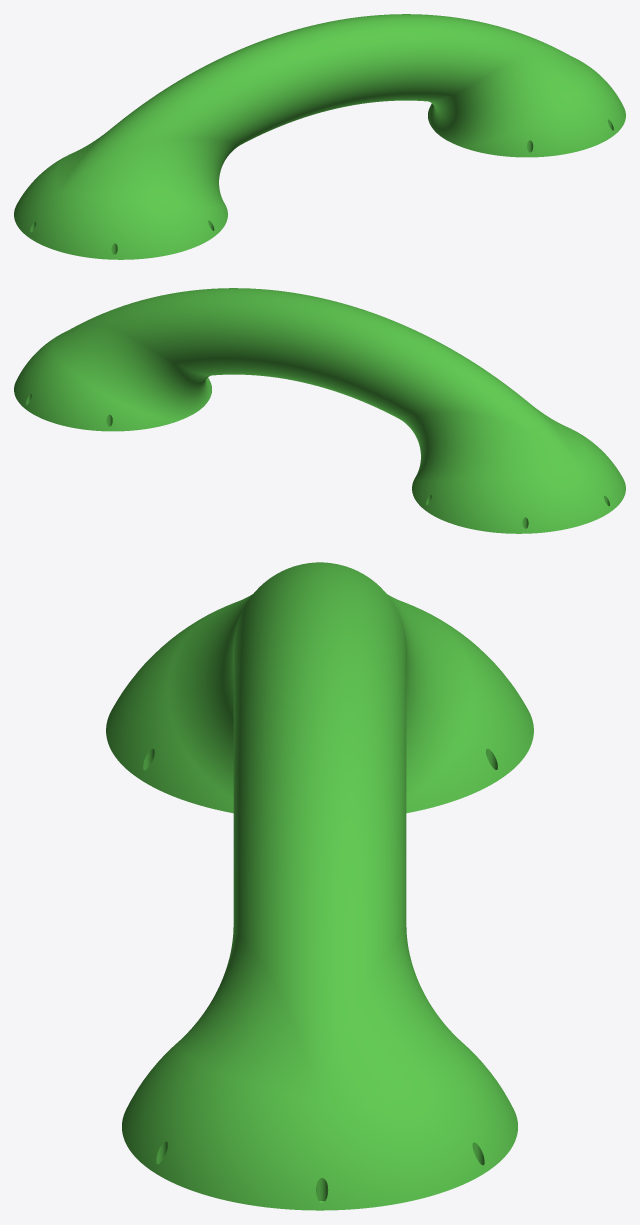
Rendered from hold06.glb.
3 renders of one model, top to bottom at view 1: azimuth 30°, elevation 25°; view 2: azimuth 150°, elevation 25°; view 3: azimuth 270°, elevation 25°, orthographic. The views are drawn at different scales.
Parts seen in each view (by area): view 1: Object_2; view 2: Object_2; view 3: Object_2.
Part boxes in pixels (x1,y1,x2,y2): Object_2: (14, 14, 625, 259); Object_2: (14, 288, 625, 533); Object_2: (106, 562, 533, 1210).
Bounding box in the file's own units: 780 × 175 × 247.
